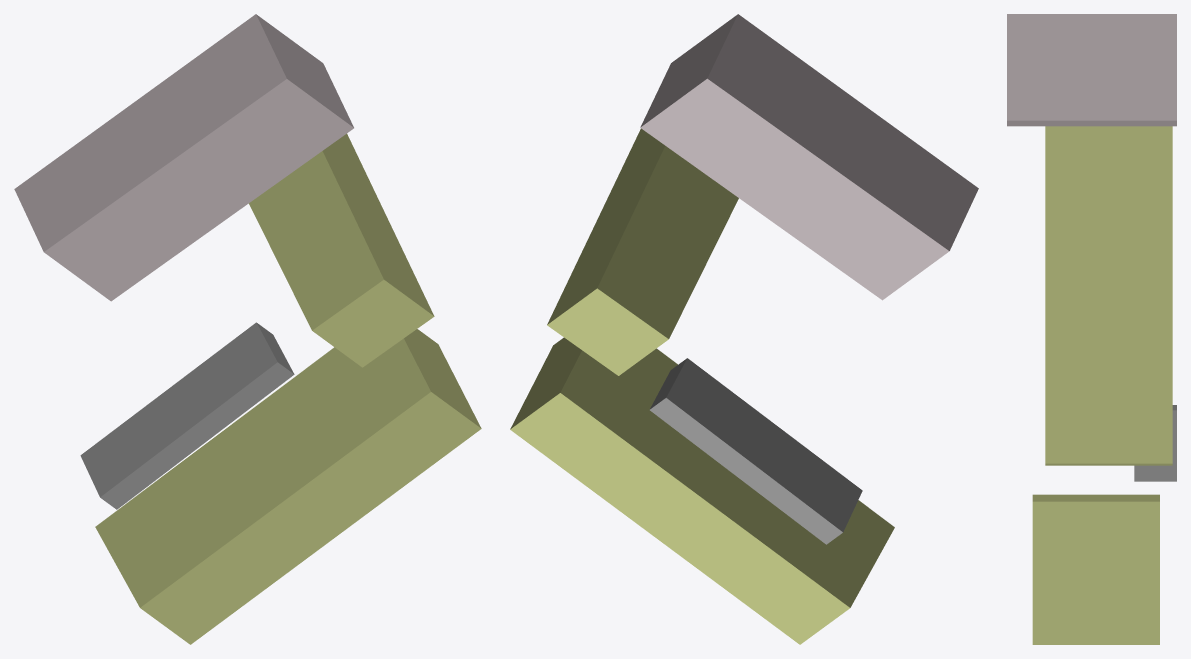
The picture shows the model from 3 angles, left to right: view 1: azimuth 30°, elevation 25°; view 2: azimuth 150°, elevation 25°; view 3: azimuth 270°, elevation 25°; orthographic projection. The views are drawn at different scales.
Visible parts, largest first — view 1: 0_1_0_2_0_2_1_0; view 2: 0_1_0_2_0_2_1_0; view 3: 0_1_0_2_0_2_1_0.
Part boxes in pixels (box(x1,y1,x2,y2)): 0_1_0_2_0_2_1_0: box(14, 14, 481, 644); 0_1_0_2_0_2_1_0: box(510, 14, 978, 644); 0_1_0_2_0_2_1_0: box(1007, 14, 1176, 644).
Size of the model in its own units: 42.16 by 54.93 by 12.
